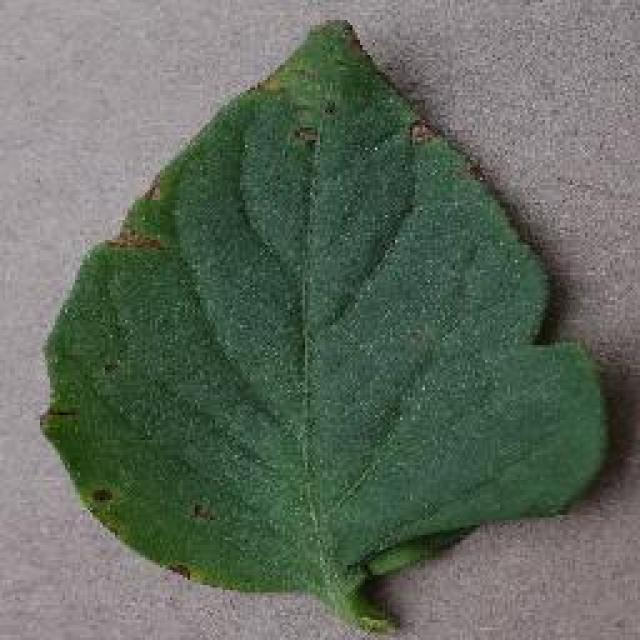Tomato___Bacterial_spot: (34, 11, 605, 637)
